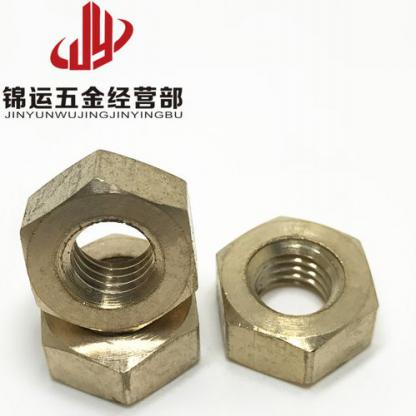FOD: (12, 146, 205, 339), (210, 214, 384, 382), (38, 228, 202, 403)
